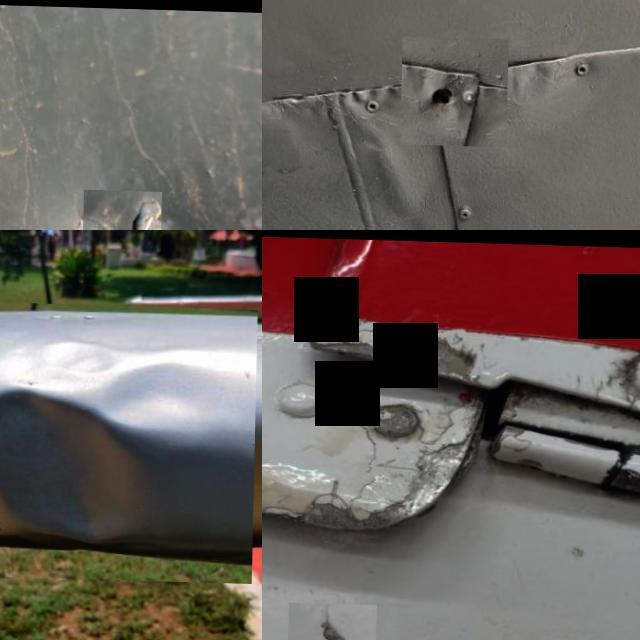Crack: (262, 299, 524, 562), (610, 324, 640, 453), (289, 600, 378, 640), (81, 187, 163, 230)
Dent: (0, 296, 257, 581)
Missing_Fastener: (402, 35, 510, 146)
